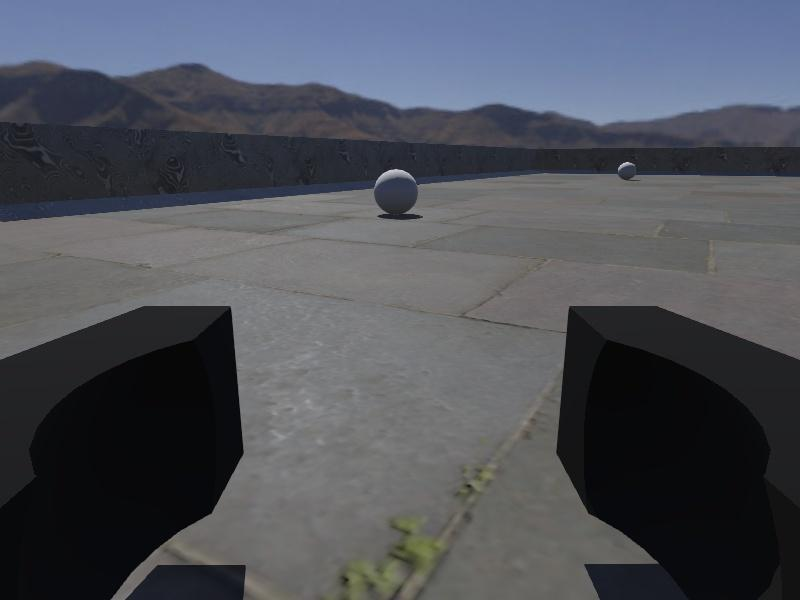white ball: (373, 167, 419, 215), (616, 161, 638, 180)
